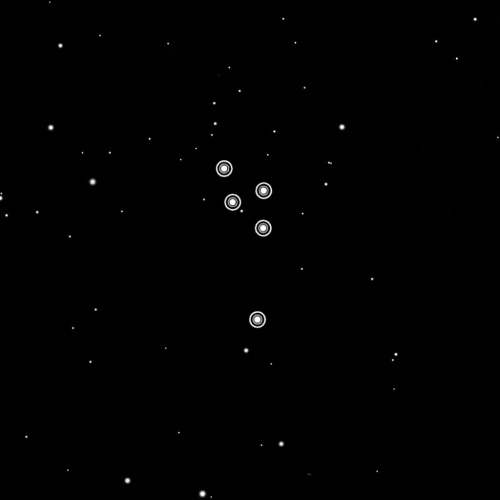delphinus: (207, 150, 279, 337)
